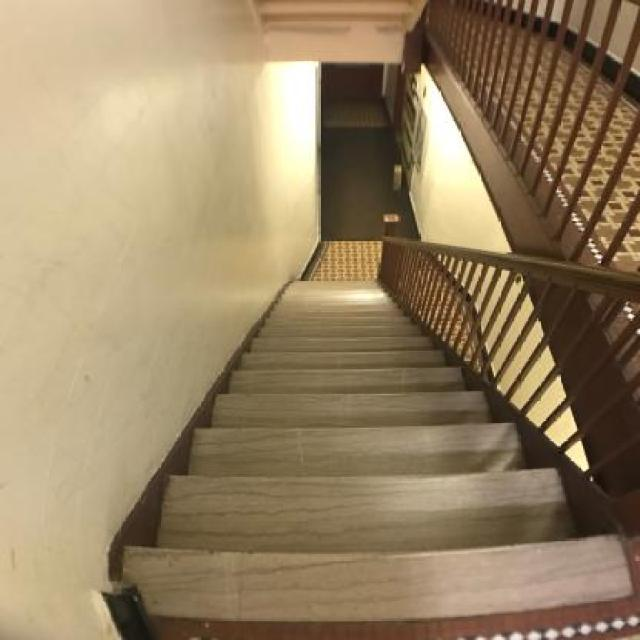stair: (102, 182, 640, 626)
